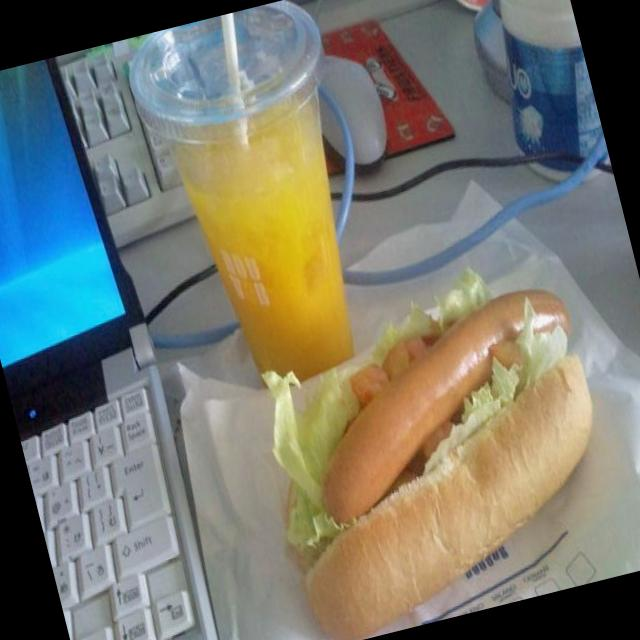Hot Dog: (238, 278, 631, 640)
